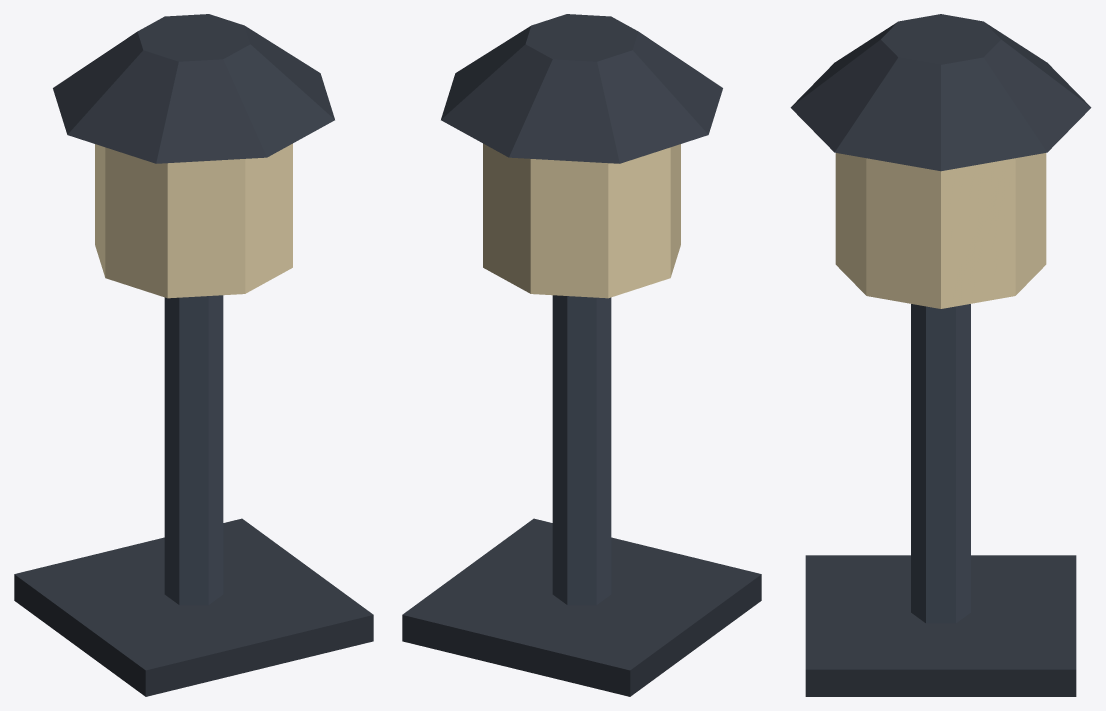
The model's file is lamp.obj.
The picture shows the model from 3 angles, left to right: view 1: azimuth 30°, elevation 25°; view 2: azimuth 150°, elevation 25°; view 3: azimuth 270°, elevation 25°; orthographic projection. The views are drawn at different scales.
Visible parts, largest first — view 1: body; view 2: body; view 3: body.
Boxes of the visible parts, box(x1,y1,x2,y2) form: body: box(14, 14, 373, 696); body: box(402, 14, 761, 696); body: box(790, 14, 1091, 696).
Bounding box in the file's own units: 0.4 × 0.88 × 0.4.
